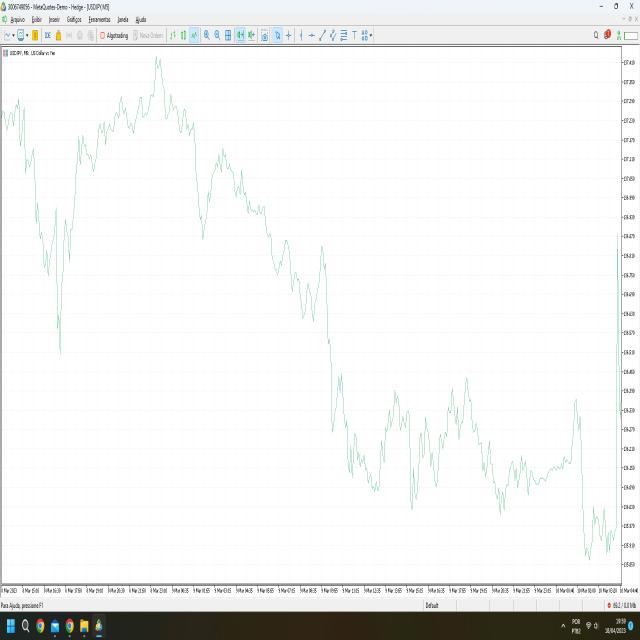bandeira_baixa: (577, 369, 617, 579)
oco: (133, 50, 181, 140)
oco_inv: (31, 183, 92, 371)
topo_duplo: (437, 350, 485, 510)
